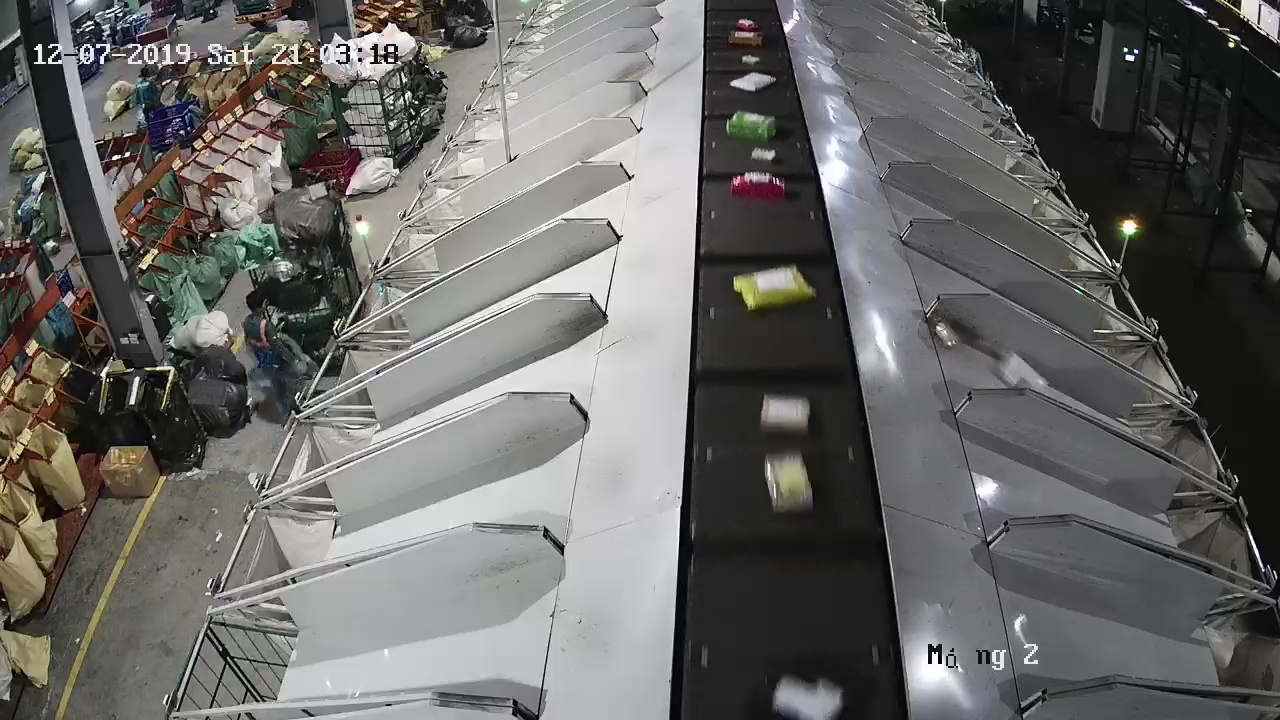parcel: (993, 352, 1050, 391)
